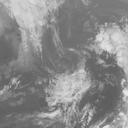cyclone: (26, 32, 100, 107)
